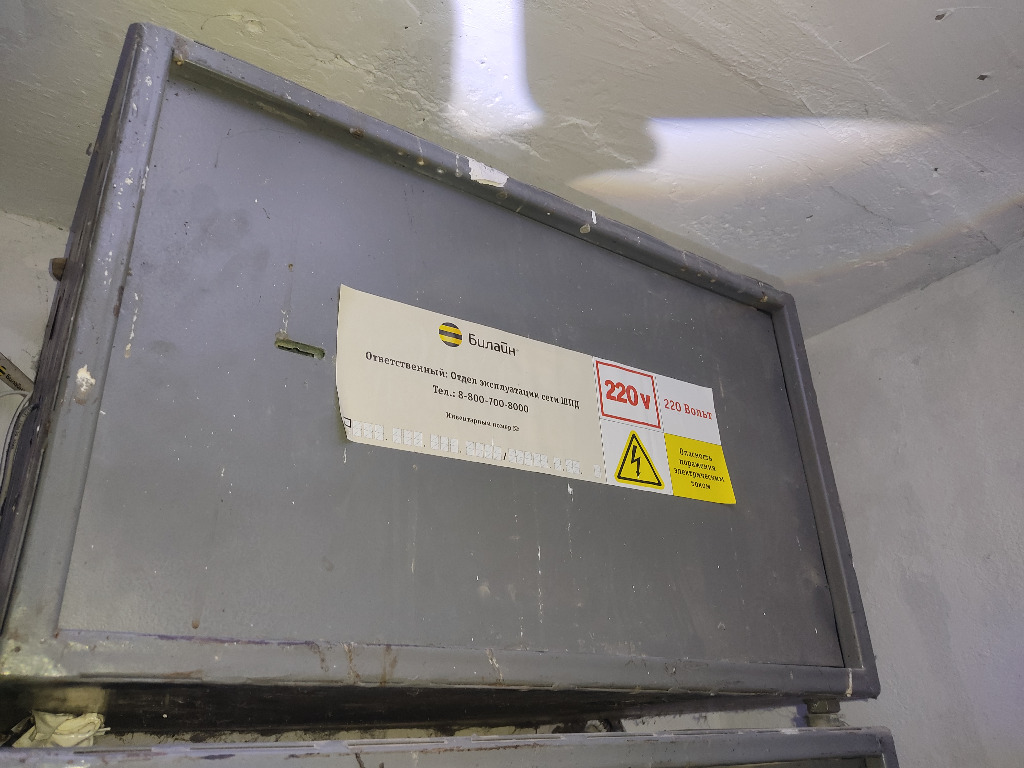e2-6u: (3, 16, 886, 703)
